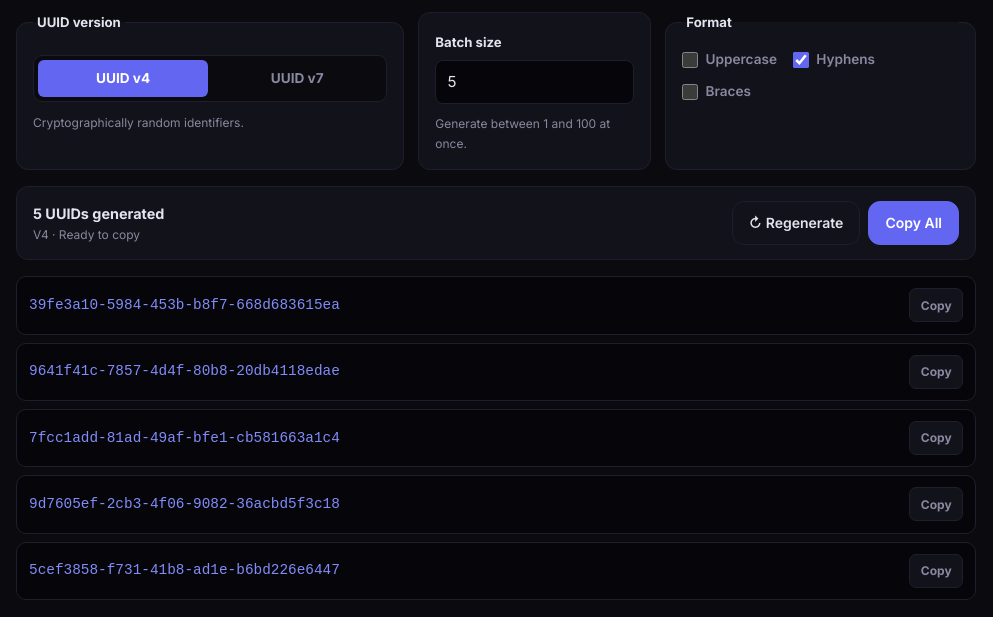
Test: UuidTool generation › regenerates the list as UUID v7 when selected
Click the button "UUID v7" at point(297, 79), box x1=212 y1=60 x2=382 y2=98
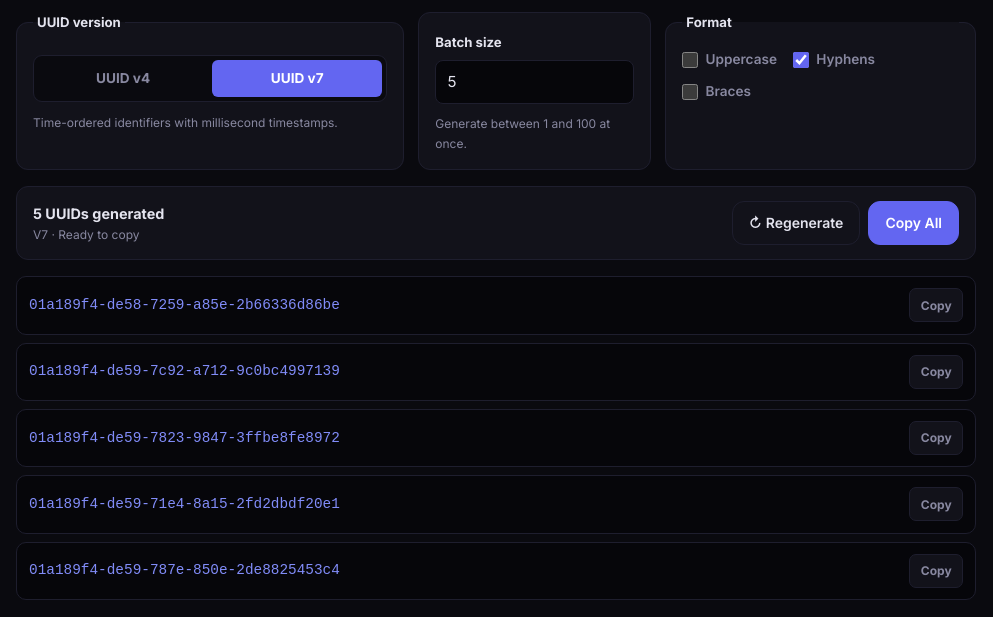
Now the text "01a189f4-de58-7259-a85e-2b66336d86be" is shown, box x1=29 y1=297 x2=340 y2=313
Now the text "01a189f4-de59-7c92-a712-9c0bc4997139" is shown, box x1=29 y1=363 x2=340 y2=379
Now the text "01a189f4-de59-787e-850e-2de8825453c4" is shown, box x1=29 y1=562 x2=340 y2=578
